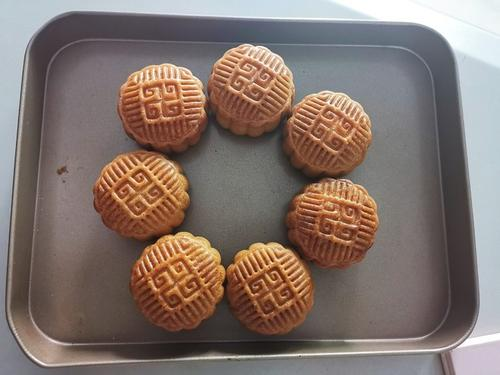MoonCake: (131, 232, 221, 332), (287, 174, 379, 268), (91, 150, 189, 238), (115, 62, 209, 152), (207, 42, 295, 136), (225, 242, 313, 334), (283, 90, 371, 176)
